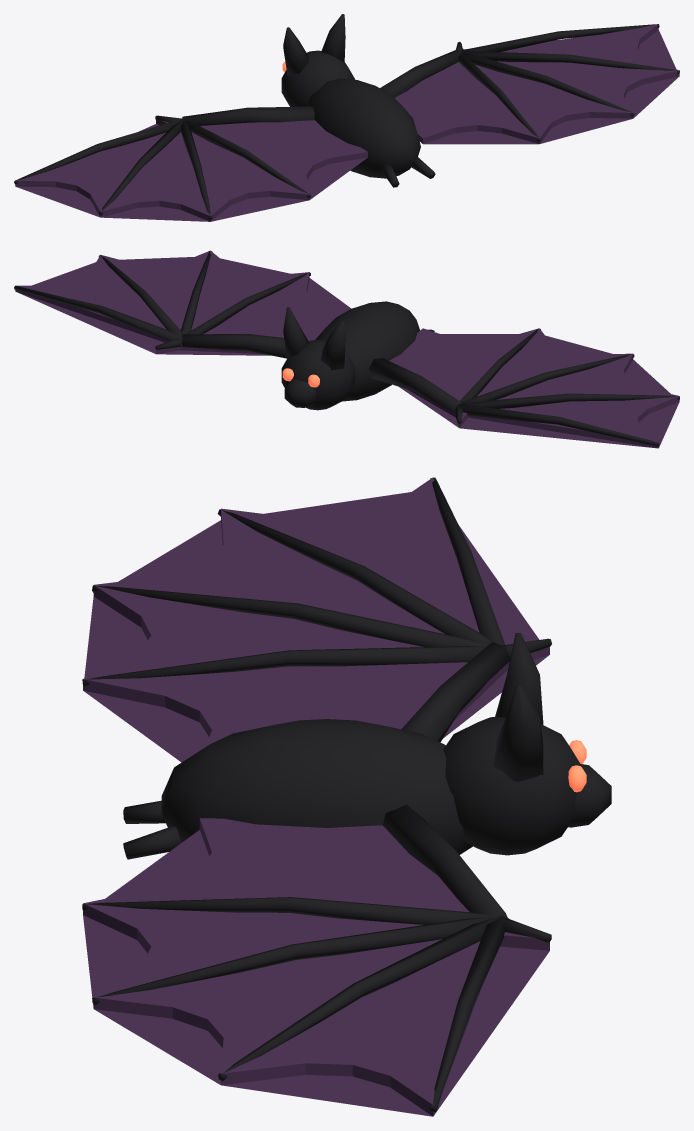
File: bat.glb
The picture shows the model from 3 angles, top to bottom: view 1: azimuth 30°, elevation 25°; view 2: azimuth 150°, elevation 25°; view 3: azimuth 270°, elevation 25°; orthographic projection. The views are drawn at different scales.
Visible parts, largest first — view 1: WingL, WingR, Body; view 2: WingL, WingR, Body; view 3: WingR, WingL, Body.
Part boxes in pixels (left/top/right/bottom): WingL: left=14, top=106, right=367, bottom=221; WingR: left=380, top=24, right=679, bottom=144; Body: left=281, top=14, right=435, bottom=187; WingL: left=369, top=328, right=679, bottom=448; WingR: left=14, top=250, right=351, bottom=358; Body: left=281, top=301, right=434, bottom=410; WingR: left=82, top=804, right=551, bottom=1116; WingL: left=82, top=477, right=551, bottom=762; Body: left=123, top=633, right=611, bottom=859.
Bounding box in the file's own units: 1.4 × 0.2307 × 0.4986.
